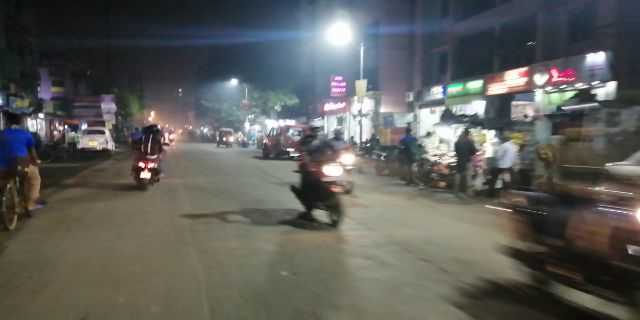Car: (75, 120, 115, 159)
Cycle: (4, 108, 43, 241)
Motorbike: (292, 120, 348, 231), (128, 125, 170, 189)
